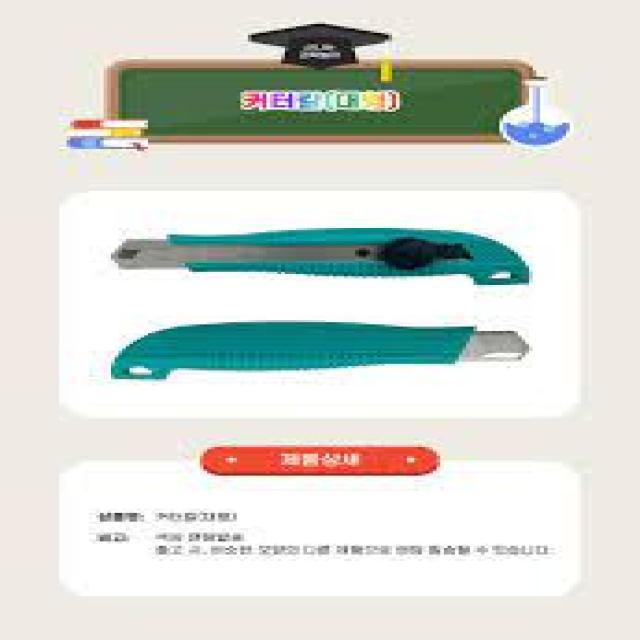cutter: (100, 210, 547, 294), (99, 319, 556, 388)
